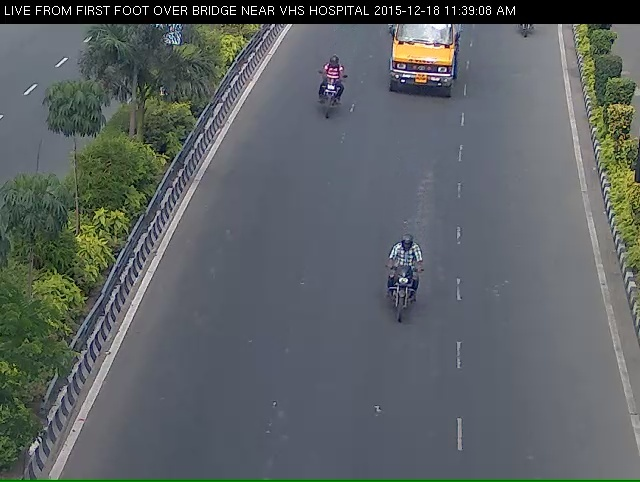Auto: (378, 22, 468, 109)
Person: (374, 251, 419, 353), (303, 70, 343, 140)
